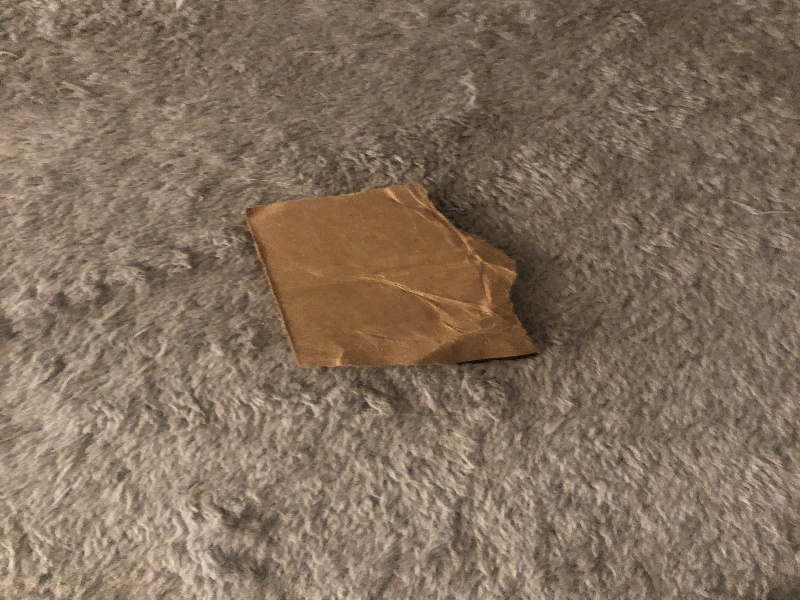cardboard: (245, 177, 545, 375)
